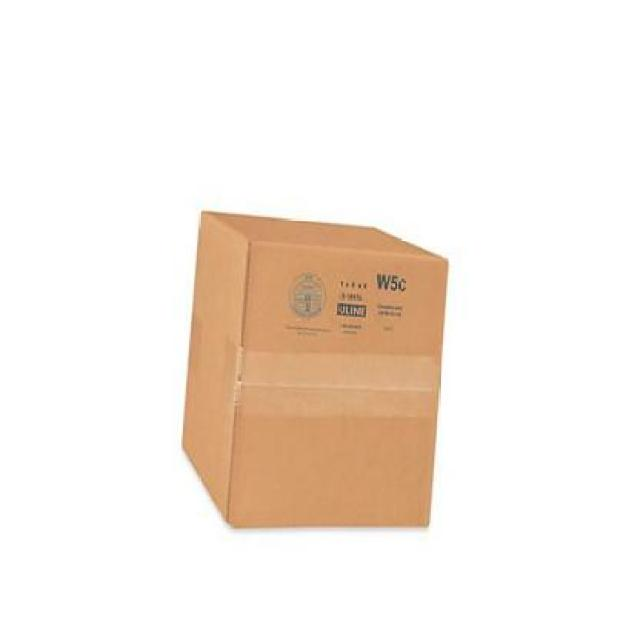cardboxes: (182, 211, 447, 531)
